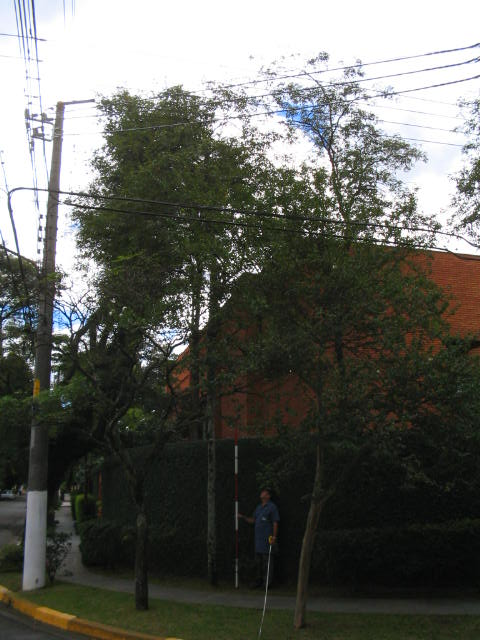crown: (36, 88, 291, 473), (245, 90, 476, 496)
stem: (112, 484, 165, 611), (287, 502, 338, 626)
stick: (229, 418, 245, 587)
tree: (33, 86, 293, 624), (240, 89, 479, 627)
